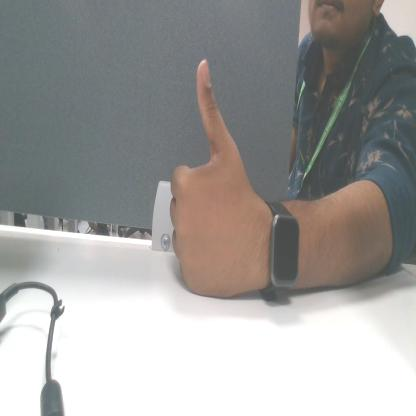Thumbs up: (158, 44, 269, 295)
